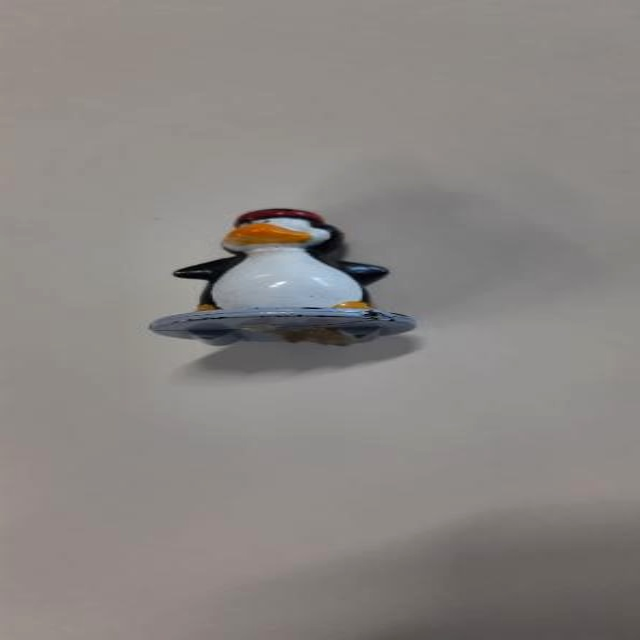Penguin: (159, 204, 405, 346)
